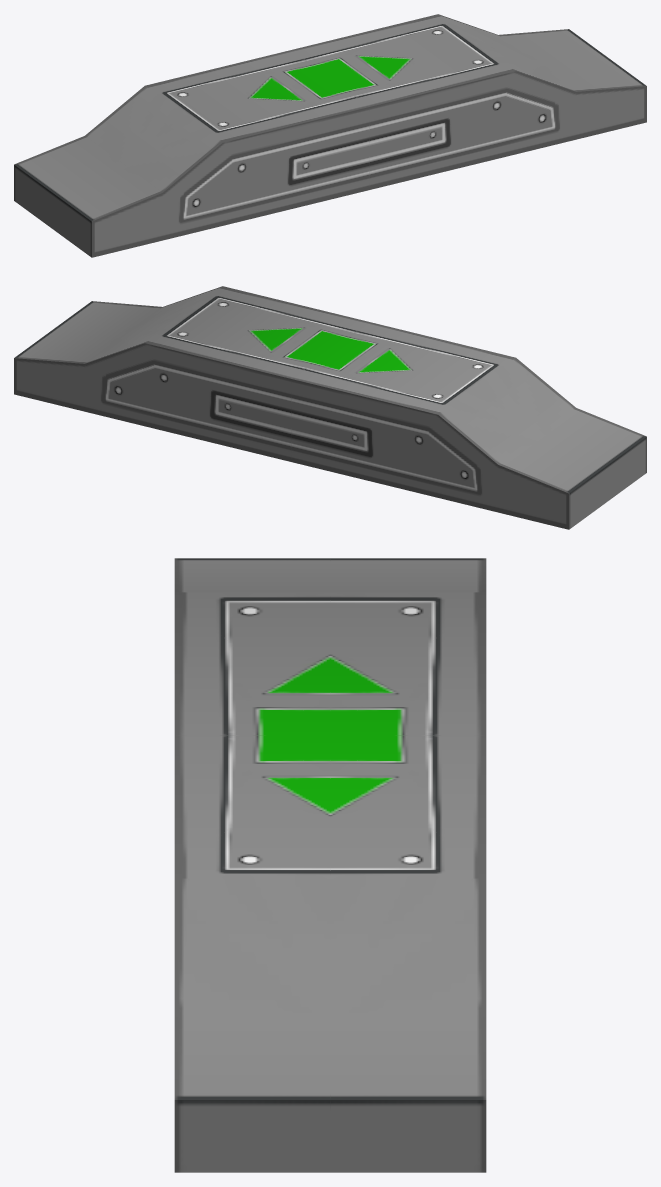
File: space_stepslope.gltf
The picture shows the model from 3 angles, top to bottom: view 1: azimuth 30°, elevation 25°; view 2: azimuth 150°, elevation 25°; view 3: azimuth 270°, elevation 25°; orthographic projection. The views are drawn at different scales.
Visible parts, largest first — view 1: space_stepslope_glb; view 2: space_stepslope_glb; view 3: space_stepslope_glb.
Boxes of the visible parts, left/top/right/bottom form: space_stepslope_glb: left=14, top=14, right=646, bottom=257; space_stepslope_glb: left=14, top=286, right=646, bottom=529; space_stepslope_glb: left=174, top=558, right=486, bottom=1172.
Size of what is drawn, in the model's own units: 4 by 0.5727 by 0.9725.
1 material, 1 textured.
